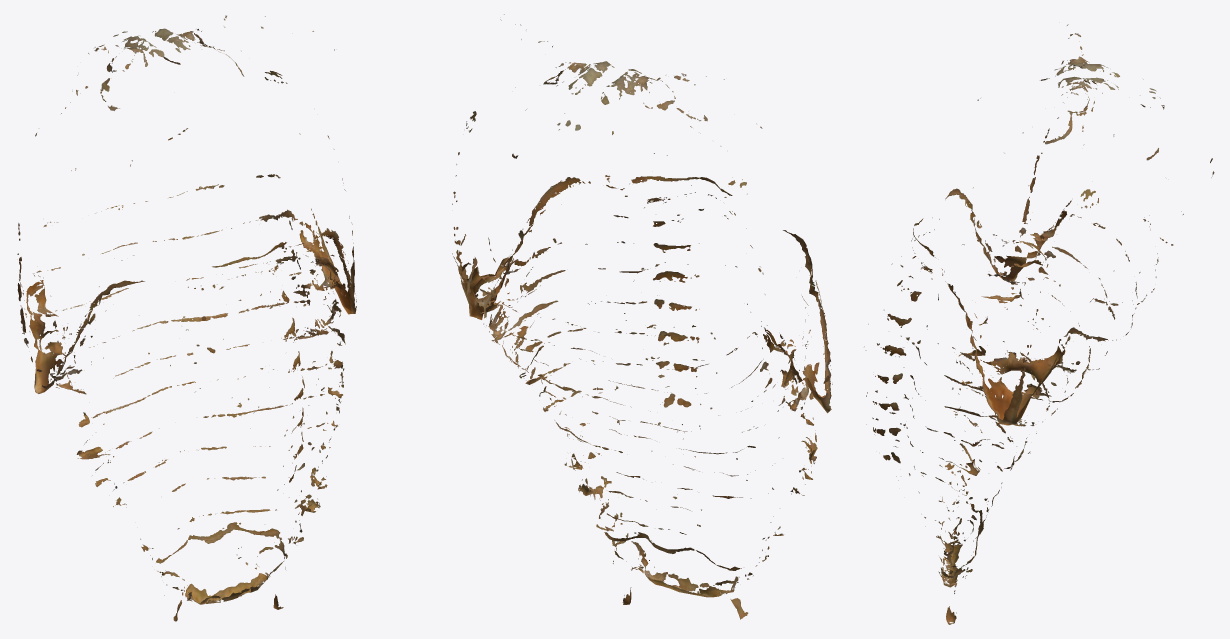
Rendered from trilobite.fbx.
3 views of the same model, side by side, from view 1: azimuth 30°, elevation 25°; view 2: azimuth 150°, elevation 25°; view 3: azimuth 270°, elevation 25° (orthographic). The views are drawn at different scales.
Parts seen in each view (by area): view 1: trilobite_remesh; view 2: trilobite_remesh; view 3: trilobite_remesh.
Part boxes in pixels (x1,y1,x2,y2): trilobite_remesh: (17, 15, 356, 621); trilobite_remesh: (452, 14, 832, 619); trilobite_remesh: (864, 24, 1214, 624).
Size of the model in its own units: 130 by 190 by 114.
Materials: 1 (1 with a texture image).
